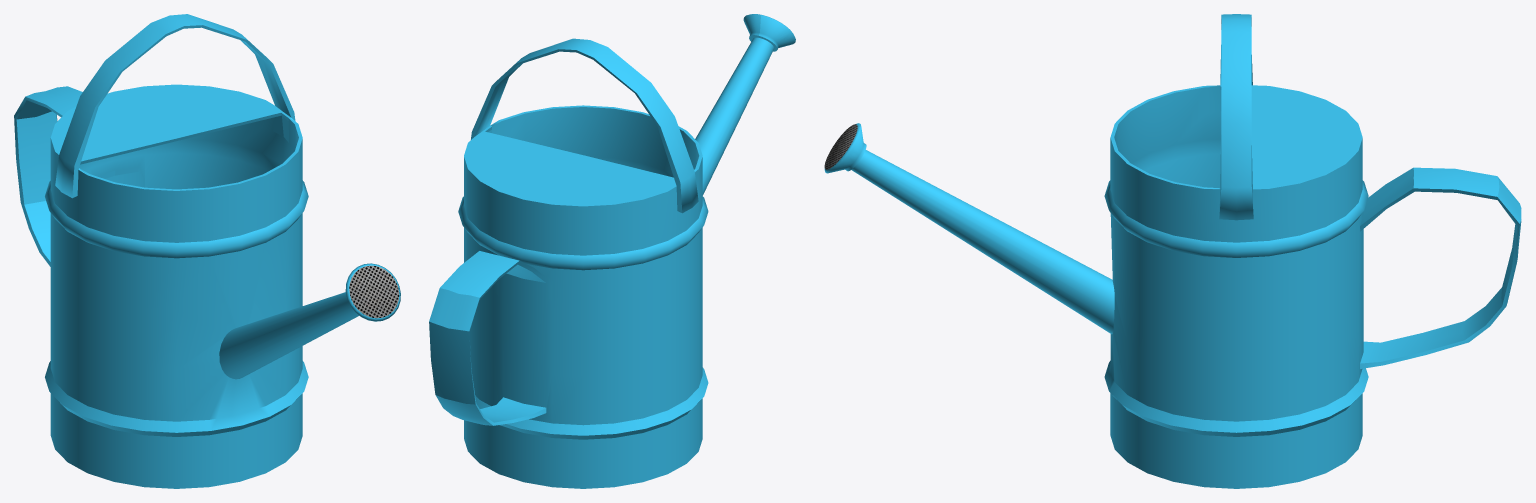
Rendered from watering can.fbx.
3 views of the same model, side by side, from view 1: azimuth 30°, elevation 25°; view 2: azimuth 150°, elevation 25°; view 3: azimuth 270°, elevation 25° (orthographic). The views are drawn at different scales.
Parts seen in each view (by area): view 1: Cylinder; view 2: Cylinder; view 3: Cylinder.
Boxes of the visible parts, <box> form: Cylinder: <box>14,14,400,488</box>; Cylinder: <box>429,14,795,488</box>; Cylinder: <box>824,14,1521,488</box>.
Size of the model in its own units: 143 by 247 by 375.
